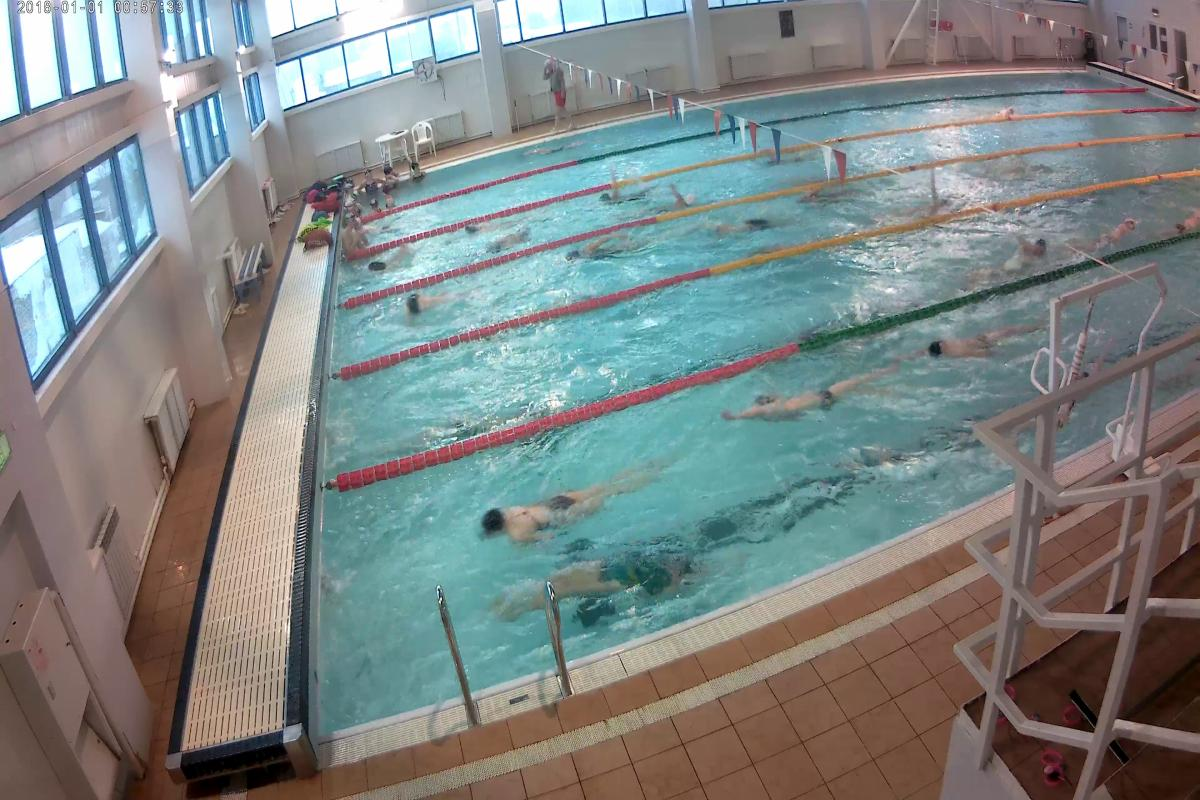swimmer: (477, 471, 631, 554), (724, 362, 878, 438), (558, 548, 704, 605), (916, 318, 1030, 363), (1076, 212, 1134, 255), (482, 219, 542, 256), (1001, 225, 1046, 274), (706, 206, 770, 238), (569, 238, 641, 265), (394, 290, 458, 320), (598, 169, 638, 207), (661, 190, 698, 211)
